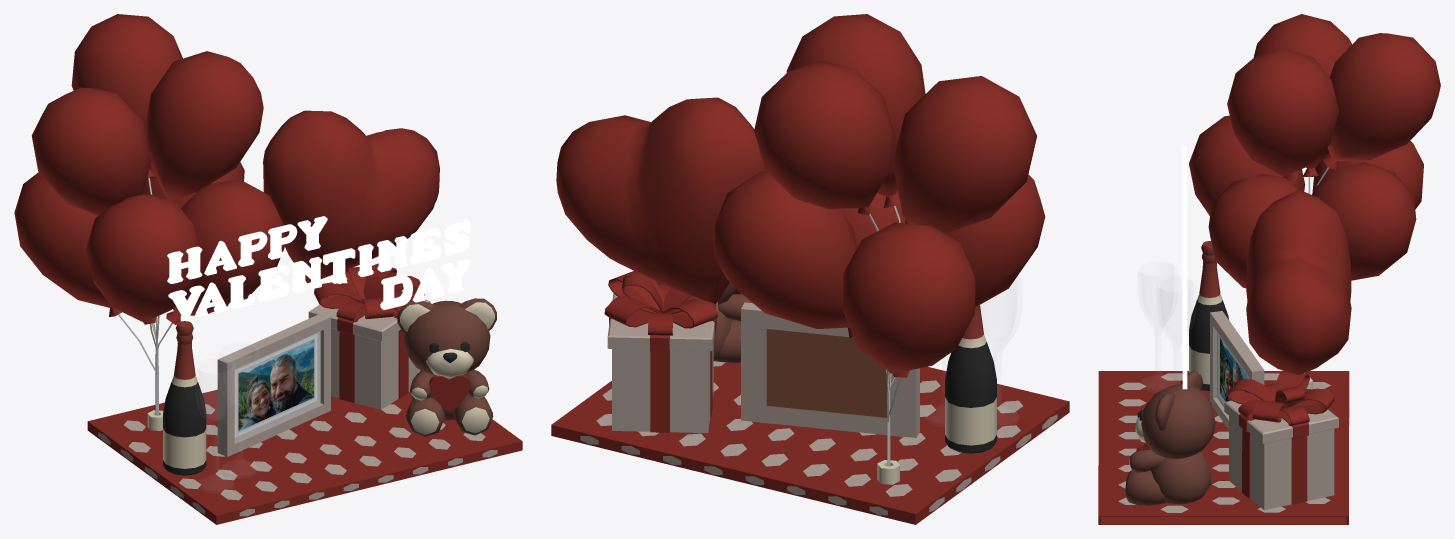
Rendered from Vday.glb.
The picture shows the model from 3 angles, left to right: view 1: azimuth 30°, elevation 25°; view 2: azimuth 150°, elevation 25°; view 3: azimuth 270°, elevation 25°; orthographic projection. The views are drawn at different scales.
Parts seen in each view (by area): view 1: BalloonBouqet_01, ChocolateBar_01, Pillow_Heart_01, PhotoFrame_Wall_01, TeddyBear_01, PresentBox_SquareTall_01, Champagne_01, Bow_02, PresentBox_SquareTall_01_Top, ChampagneGlass_01 (1), Letter_H_01, ChampagneGlass_01 (+14 smaller); view 2: BalloonBouqet_01, ChocolateBar_01, Pillow_Heart_01, PhotoFrame_Wall_01, PresentBox_SquareTall_01, Champagne_01, Bow_02, PresentBox_SquareTall_01_Top, TeddyBear_01, ChampagneGlass_01 (1); view 3: BalloonBouqet_01, Pillow_Heart_01, ChocolateBar_01, TeddyBear_01, PresentBox_SquareTall_01, Bow_02, PhotoFrame_Wall_01, Champagne_01, PresentBox_SquareTall_01_Top, ChampagneGlass_01, ChampagneGlass_01 (1).
Boxes of the visible parts, box(x1,y1,x2,y2) form: BalloonBouqet_01: box(14, 14, 285, 430); ChocolateBar_01: box(87, 389, 522, 524); Pillow_Heart_01: box(263, 110, 439, 283); PhotoFrame_Wall_01: box(217, 313, 330, 456); TeddyBear_01: box(397, 298, 496, 436); PresentBox_SquareTall_01: box(331, 328, 420, 409); Champagne_01: box(163, 321, 206, 475); Bow_02: box(314, 263, 424, 322); PresentBox_SquareTall_01_Top: box(308, 292, 430, 341); ChampagneGlass_01 (1): box(199, 368, 232, 420); Letter_H_01: box(167, 246, 202, 283); ChampagneGlass_01: box(222, 352, 256, 404); BalloonBouqet_01: box(713, 14, 1045, 484); ChocolateBar_01: box(551, 361, 1069, 524); Pillow_Heart_01: box(556, 97, 766, 303); PhotoFrame_Wall_01: box(741, 302, 919, 437); PresentBox_SquareTall_01: box(612, 342, 713, 433); Champagne_01: box(945, 305, 996, 453); Bow_02: box(604, 271, 717, 335); PresentBox_SquareTall_01_Top: box(607, 293, 717, 351); TeddyBear_01: box(656, 282, 752, 362); ChampagneGlass_01 (1): box(980, 279, 1017, 341); BalloonBouqet_01: box(1189, 14, 1440, 389); Pillow_Heart_01: box(1246, 189, 1351, 375); ChocolateBar_01: box(1098, 371, 1349, 524); TeddyBear_01: box(1125, 370, 1215, 505); PresentBox_SquareTall_01: box(1229, 416, 1334, 510); Bow_02: box(1227, 370, 1334, 425); PhotoFrame_Wall_01: box(1210, 311, 1264, 429); Champagne_01: box(1189, 241, 1228, 390); PresentBox_SquareTall_01_Top: box(1224, 400, 1338, 443); ChampagneGlass_01: box(1160, 286, 1193, 337); ChampagneGlass_01 (1): box(1142, 271, 1174, 321).
Size of the model in its own units: 1.32 by 1.22 by 1.02.
Materials: 4 (2 with a texture image).
